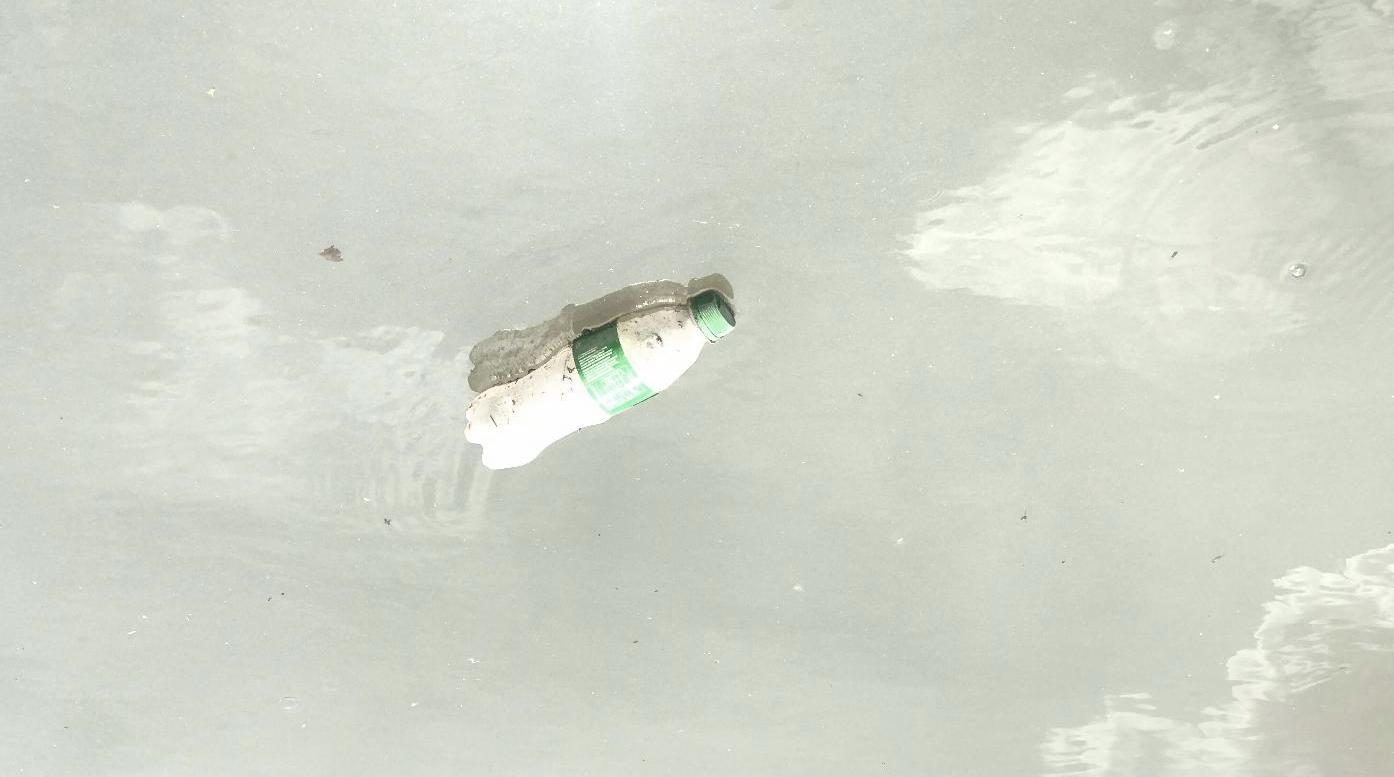Plastic: (460, 293, 745, 472)
